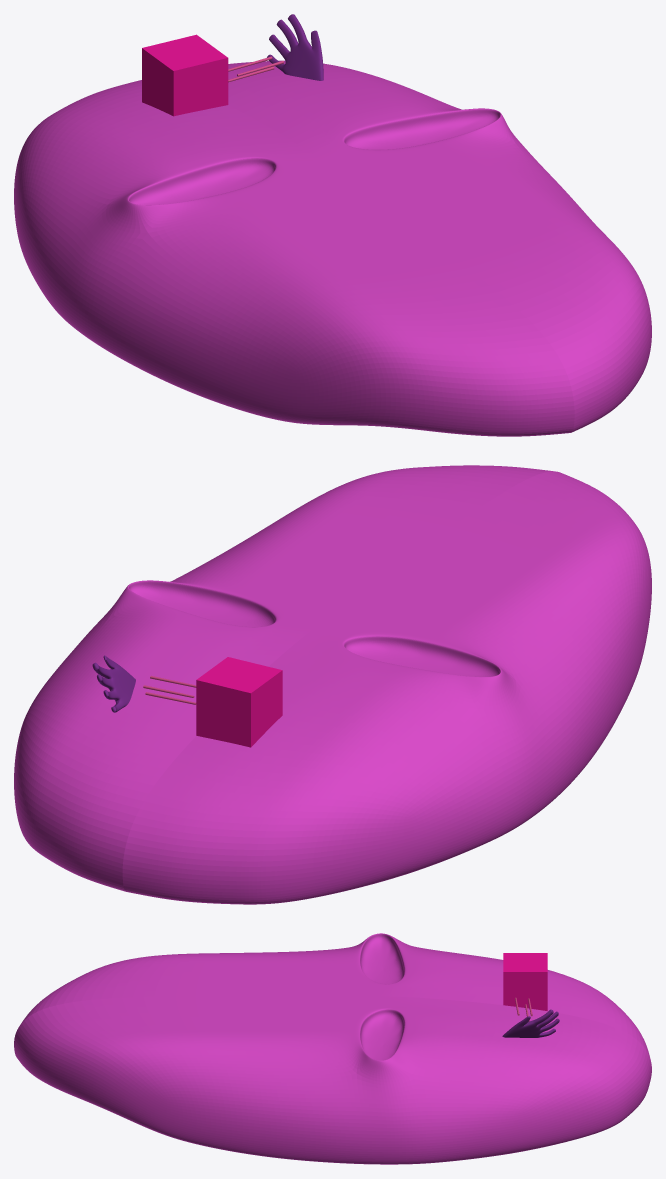
File: Mask.Grab.1.fbx
The picture shows the model from 3 angles, top to bottom: view 1: azimuth 30°, elevation 25°; view 2: azimuth 150°, elevation 25°; view 3: azimuth 270°, elevation 25°; orthographic projection. The views are drawn at different scales.
Visible parts, largest first — view 1: Mask, Cube, Hand; view 2: Mask, Cube, Hand; view 3: Mask, Cube, Hand.
Part boxes in pixels (x1,y1,x2,y2): Mask: [14, 60, 651, 436]; Cube: [142, 34, 228, 116]; Hand: [267, 14, 323, 80]; Mask: [14, 465, 651, 904]; Cube: [196, 657, 282, 747]; Hand: [92, 655, 135, 712]; Mask: [14, 933, 651, 1164]; Cube: [503, 953, 547, 1011]; Hand: [502, 1009, 559, 1037].
Bounding box in the file's own units: 299 × 101 × 507.
